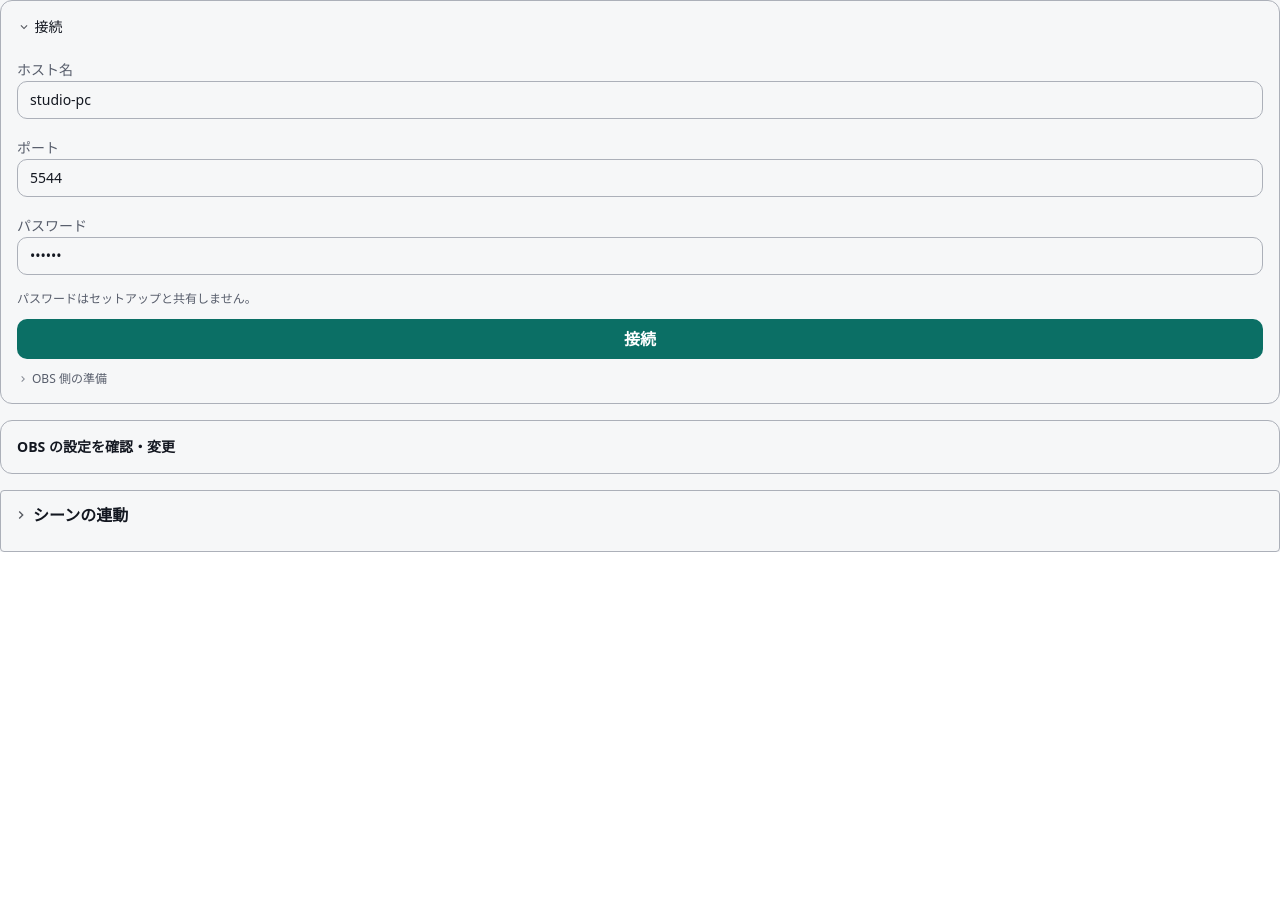
Scenario: 保存済みの接続先を使い、失敗時に秘密を含むエラーを転記しない
The image size is (1280, 900).
Expected: the field named "OBSホスト名" holds "studio-pc", [17,81,1263,119]
Click the button "接続" at [640, 339], box [17,319,1263,359]
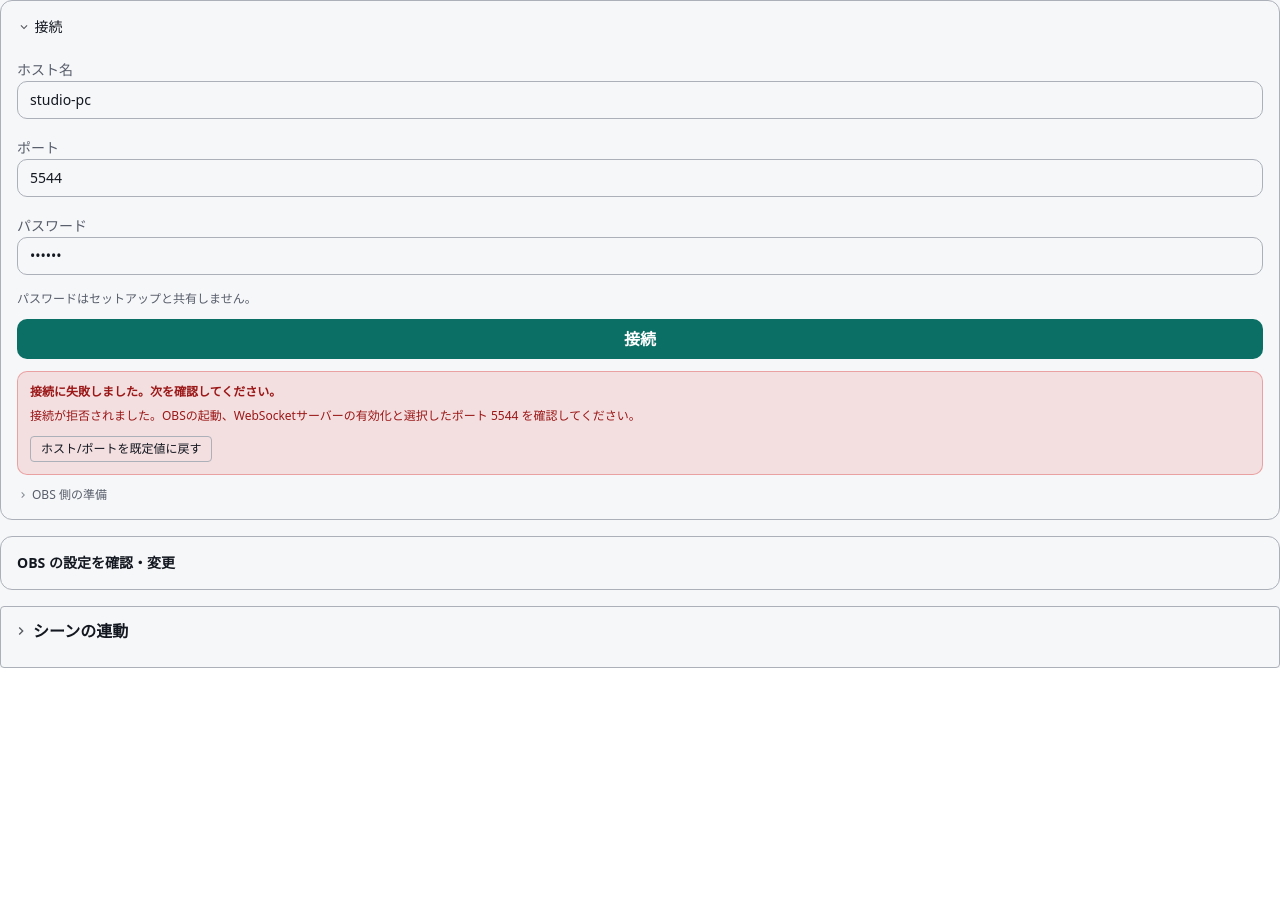
Result: the text "接続が拒否されました。OBSの起動、WebSocketサーバーの有効化と選択したポート 5544 を確認してください。" is shown at [30,407,641,424]
